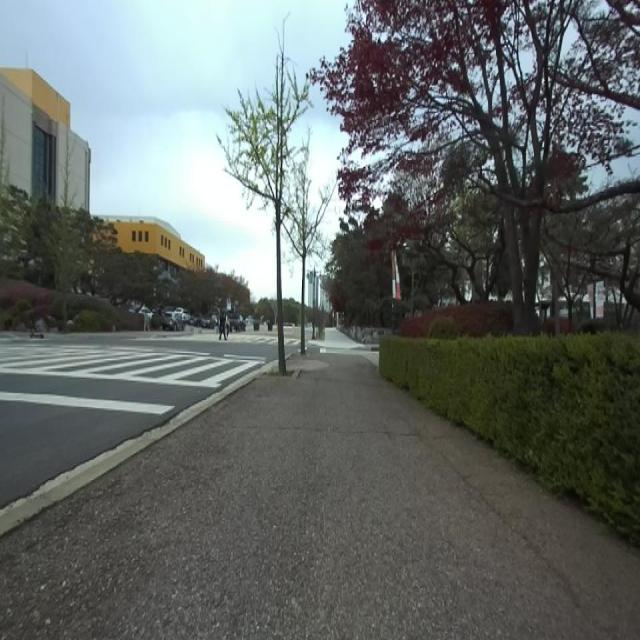sidewalk: (0, 354, 640, 639), (308, 328, 368, 347)
